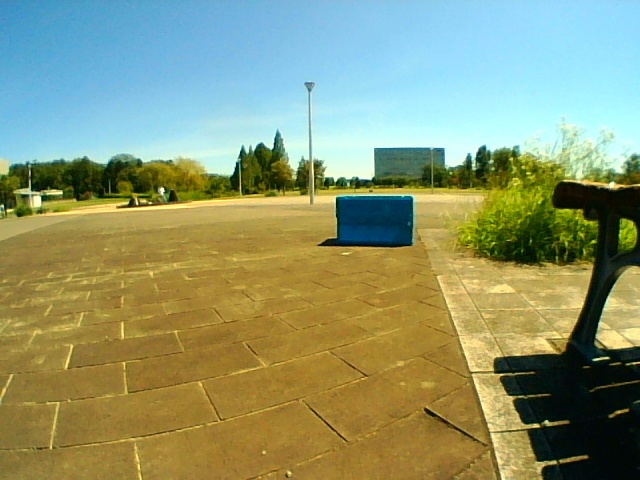blue_box: (337, 196, 412, 246)
